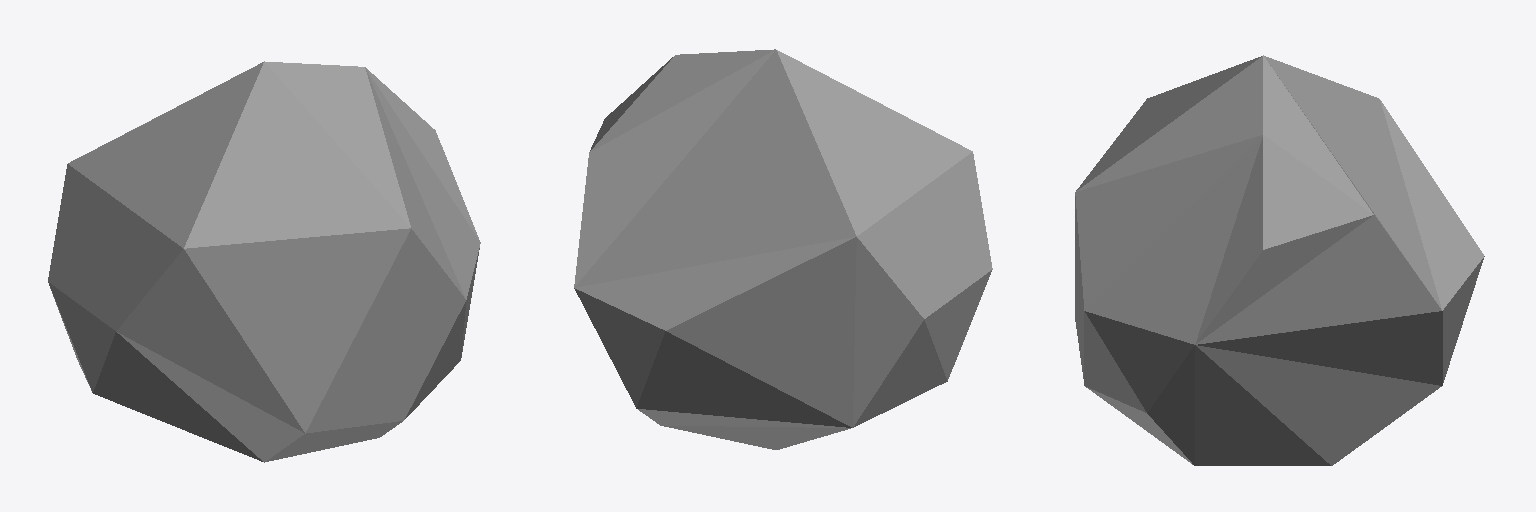
Rendered from texturedAsteroid.obj.
3 views of the same model, side by side, from view 1: azimuth 30°, elevation 25°; view 2: azimuth 150°, elevation 25°; view 3: azimuth 270°, elevation 25° (orthographic).
Parts seen in each view (by area): view 1: Icosphere; view 2: Icosphere; view 3: Icosphere.
Part boxes in pixels (left/top/right/bottom): Icosphere: left=48, top=61, right=480, bottom=462; Icosphere: left=574, top=49, right=992, bottom=449; Icosphere: left=1075, top=55, right=1484, bottom=465.
Size of the model in its own units: 5.11 by 5.37 by 4.97.